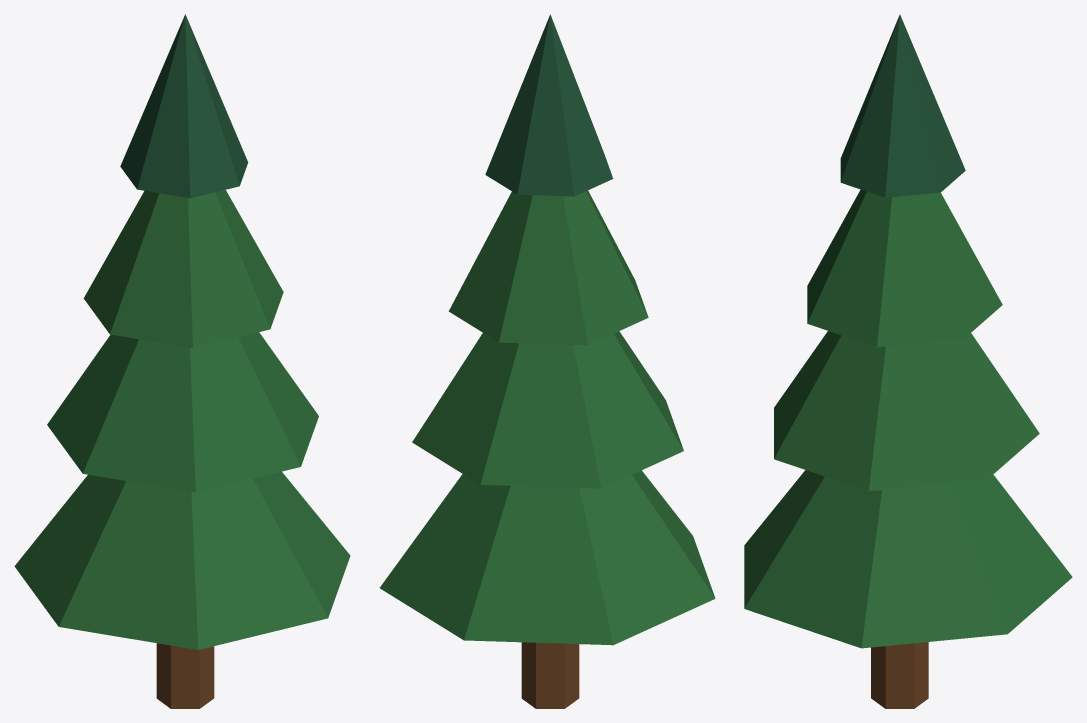
The model's file is pine_2.glb.
3 views of the same model, side by side, from view 1: azimuth 30°, elevation 25°; view 2: azimuth 150°, elevation 25°; view 3: azimuth 270°, elevation 25° (orthographic).
Visible parts, largest first — view 1: leaves1, leaves2, trunk; view 2: leaves1, leaves2, trunk; view 3: leaves1, leaves2, trunk.
Boxes of the visible parts, bbox=[...] form: leaves1: bbox=[14, 190, 350, 649]; leaves2: bbox=[120, 14, 248, 198]; trunk: bbox=[156, 643, 214, 708]; leaves1: bbox=[380, 190, 715, 645]; leaves2: bbox=[485, 14, 613, 196]; trunk: bbox=[521, 642, 579, 708]; leaves1: bbox=[744, 189, 1072, 648]; leaves2: bbox=[840, 14, 965, 197]; trunk: bbox=[871, 642, 928, 708].
Bounding box in the file's own units: 0.8189 × 1.83 × 0.7984.
